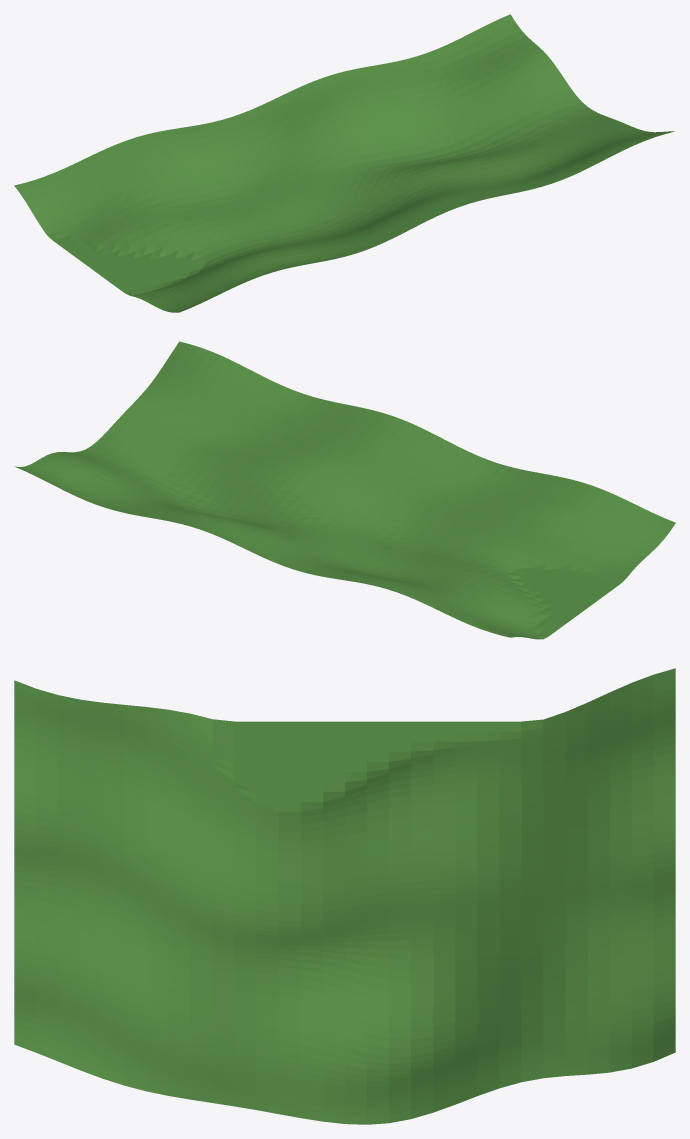
The model's file is mountain_terrain.dae.
3 views of the same model, one above another, from view 1: azimuth 30°, elevation 25°; view 2: azimuth 150°, elevation 25°; view 3: azimuth 270°, elevation 25° (orthographic). The views are drawn at different scales.
Visible parts, largest first — view 1: mountain_terrain; view 2: mountain_terrain; view 3: mountain_terrain.
Boxes of the visible parts, left/top/right/bottom form: mountain_terrain: left=14, top=14, right=674, bottom=312; mountain_terrain: left=15, top=341, right=675, bottom=639; mountain_terrain: left=14, top=668, right=675, bottom=1124.
Size of the model in its own units: 10.4 by 6 by 1.62.
